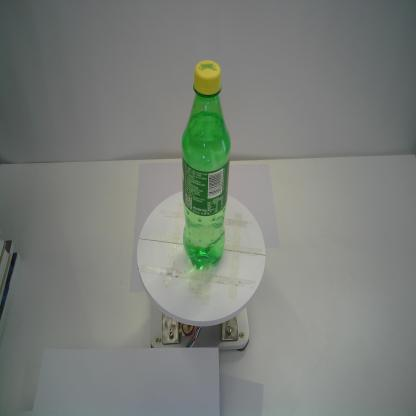Drink: (177, 58, 233, 277)
